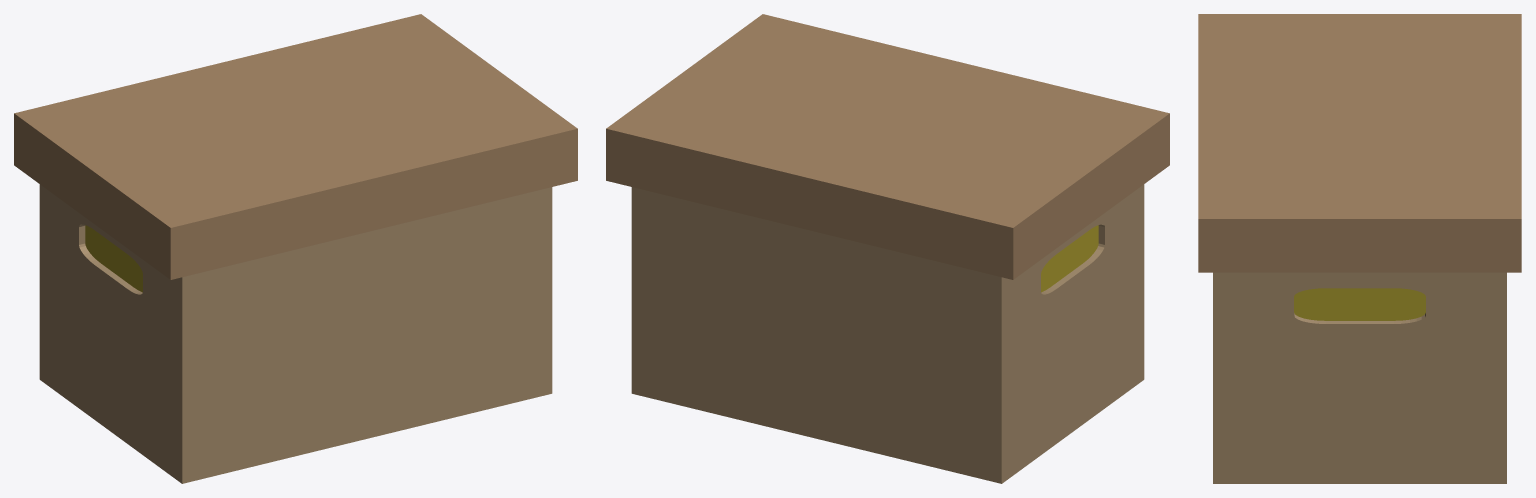
File: BankerBox.fbx
The picture shows the model from 3 angles, left to right: view 1: azimuth 30°, elevation 25°; view 2: azimuth 150°, elevation 25°; view 3: azimuth 270°, elevation 25°; orthographic projection. The views are drawn at different scales.
Parts seen in each view (by area): view 1: Cube, Cube.001; view 2: Cube, Cube.001; view 3: Cube.001, Cube.
Part boxes in pixels (x1,y1,x2,y2): Cube: (39,184,552,483); Cube.001: (14,14,577,279); Cube: (631,184,1144,483); Cube.001: (606,14,1169,279); Cube.001: (1198,14,1521,272); Cube: (1213,272,1506,483).
Bounding box in the file's own units: 1.65 × 1.03 × 1.1.
